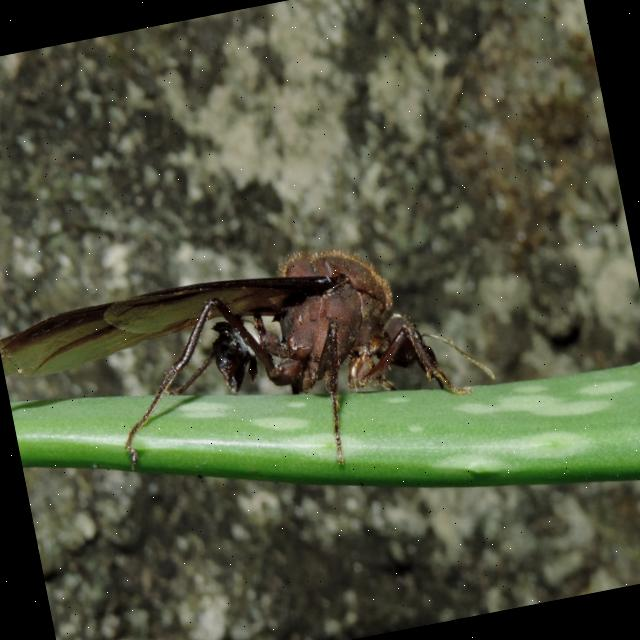Alive-Female-Alate: (0, 220, 505, 525)
